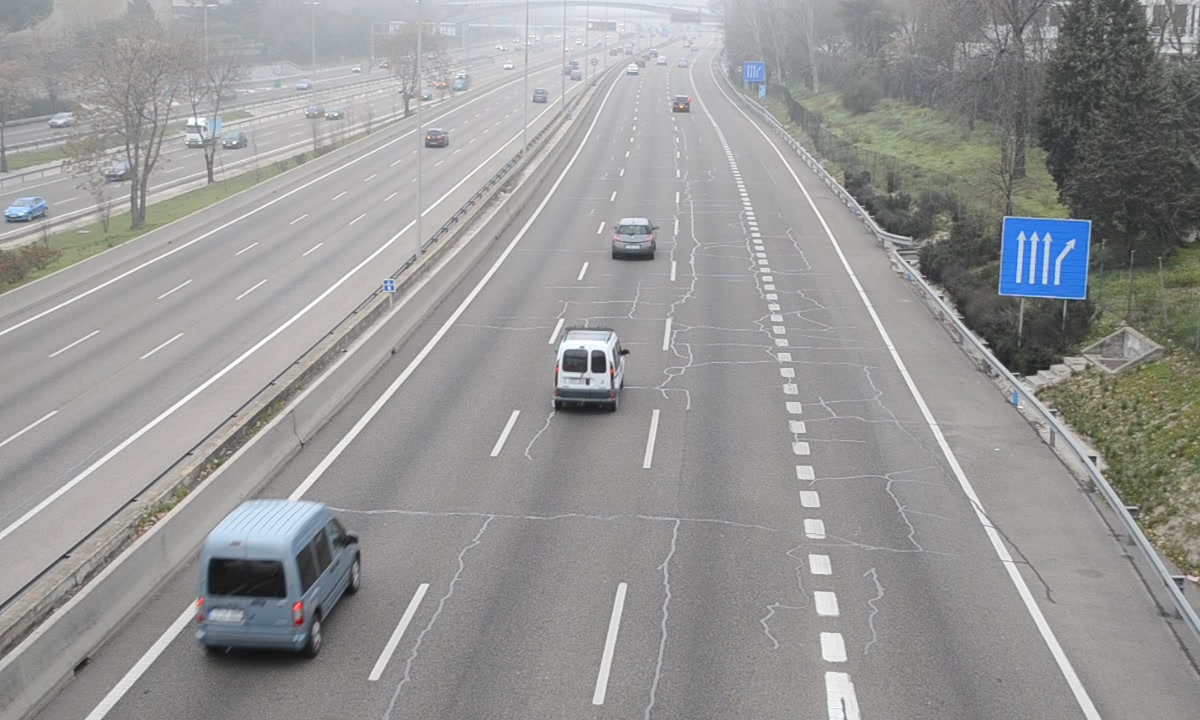car: (611, 217, 654, 259)
van: (198, 501, 360, 658), (553, 329, 625, 411)
